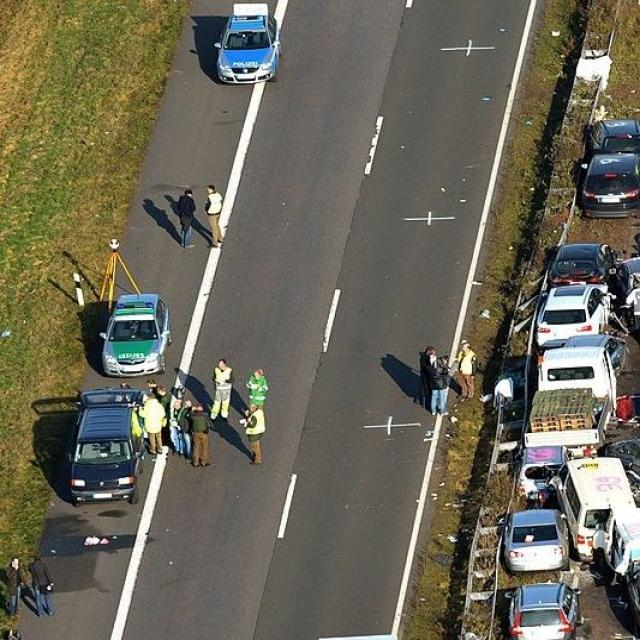traffic_incident: (493, 112, 639, 639)
